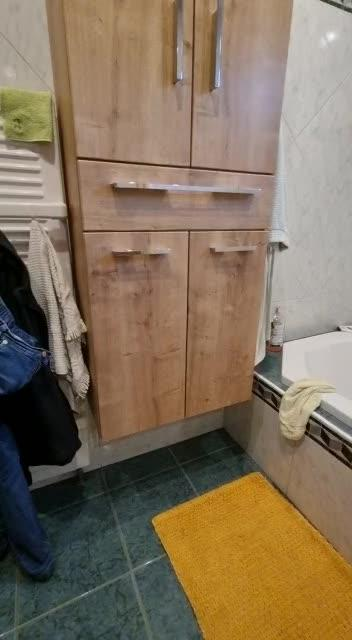cabinet_door: (88, 233, 189, 427), (77, 0, 190, 163), (194, 0, 293, 170), (189, 231, 260, 406), (80, 168, 277, 230)
handle: (104, 171, 260, 205), (208, 3, 229, 103), (102, 239, 172, 267), (168, 0, 188, 92), (196, 240, 261, 261)
